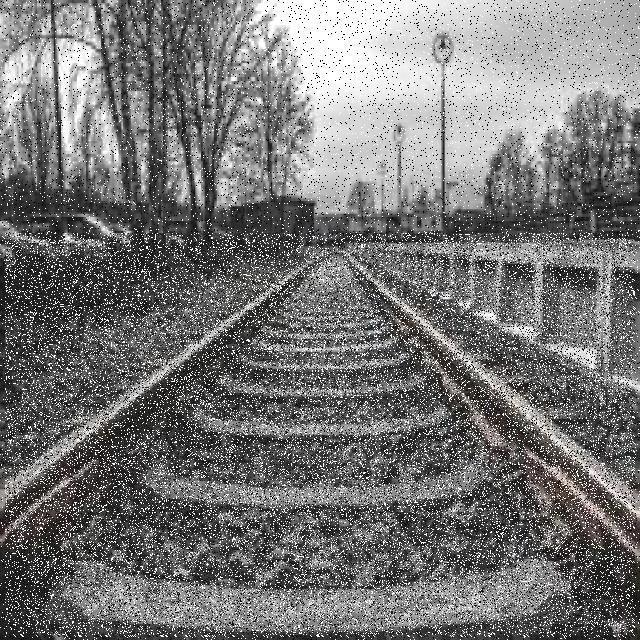rail: (6, 235, 635, 637)
